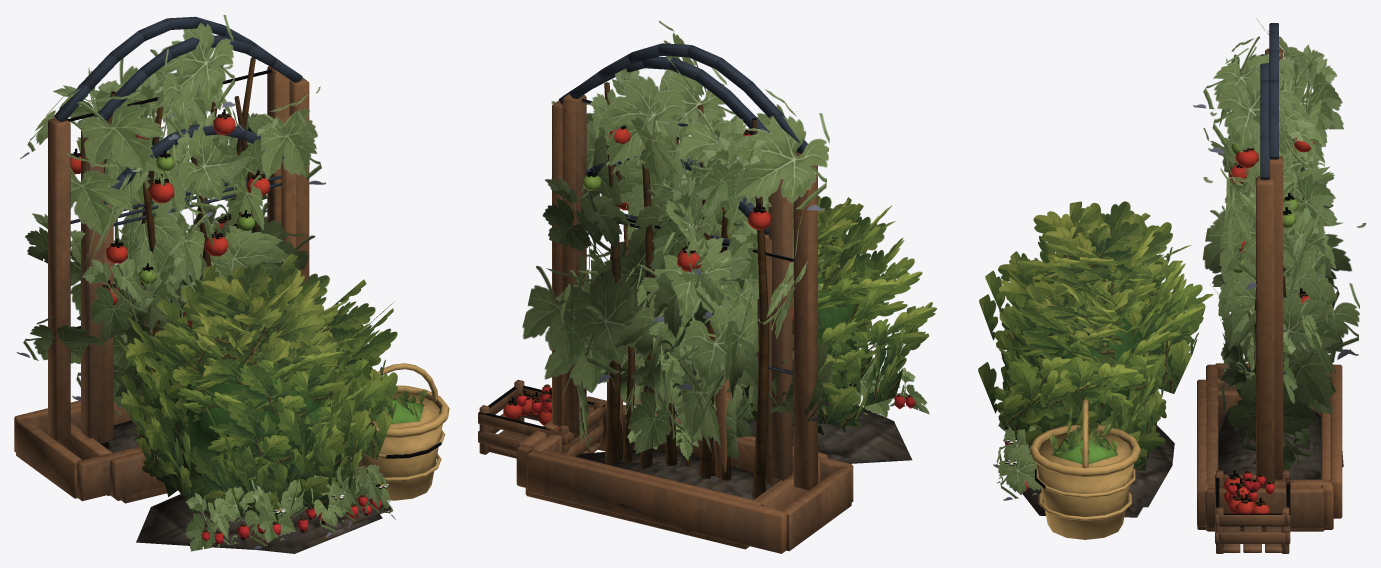
Rendered from tea_berry_stages.glb.
3 views of the same model, side by side, from view 1: azimuth 30°, elevation 25°; view 2: azimuth 150°, elevation 25°; view 3: azimuth 270°, elevation 25° (orthographic). The views are drawn at different scales.
Parts seen in each view (by area): view 1: TeaBerry_TeaLeaves_S3, TeaBerry_Struct_S3, TeaBerry_VineLeaves_S3, TeaBerry_VineLeaves_S2, TeaBerry_Struct_S2, TeaBerry_TeaLeaves_S2, TeaBerry_Struct_S1, TeaBerry_VineLeaves_S1; view 2: TeaBerry_Struct_S3, TeaBerry_VineLeaves_S3, TeaBerry_VineLeaves_S2, TeaBerry_TeaLeaves_S3, TeaBerry_Struct_S2, TeaBerry_VineLeaves_S1, TeaBerry_Struct_S1, TeaBerry_Struct_S0; view 3: TeaBerry_Struct_S3, TeaBerry_TeaLeaves_S3, TeaBerry_VineLeaves_S3, TeaBerry_Struct_S2, TeaBerry_VineLeaves_S2, TeaBerry_TeaLeaves_S2, TeaBerry_VineLeaves_S1, TeaBerry_Struct_S1.
Boxes of the visible parts, x1,y1,x2,y2 form: TeaBerry_TeaLeaves_S3: (116,254,427,525); TeaBerry_Struct_S3: (14,16,449,550); TeaBerry_VineLeaves_S3: (17,15,389,551); TeaBerry_VineLeaves_S2: (77,47,395,549); TeaBerry_Struct_S2: (57,35,391,547); TeaBerry_TeaLeaves_S2: (176,320,397,496); TeaBerry_Struct_S1: (70,124,382,553); TeaBerry_VineLeaves_S1: (72,165,369,494); TeaBerry_Struct_S3: (478,43,915,553); TeaBerry_VineLeaves_S3: (522,20,929,452); TeaBerry_VineLeaves_S2: (551,59,797,454); TeaBerry_TeaLeaves_S3: (714,195,936,435); TeaBerry_Struct_S2: (516,56,827,510); TeaBerry_VineLeaves_S1: (556,192,757,478); TeaBerry_Struct_S1: (525,155,793,549); TeaBerry_Struct_S0: (607,337,731,478); TeaBerry_Struct_S3: (1004,23,1343,553); TeaBerry_TeaLeaves_S3: (978,201,1213,468); TeaBerry_VineLeaves_S3: (993,18,1366,483); TeaBerry_Struct_S2: (1004,54,1333,528); TeaBerry_VineLeaves_S2: (996,36,1339,500); TeaBerry_TeaLeaves_S2: (994,273,1175,470); TeaBerry_VineLeaves_S1: (1219,213,1321,470); TeaBerry_Struct_S1: (1022,254,1333,531).
Bounding box in the file's own units: 1.47 × 1.81 × 1.44.
4 materials, 4 textured.
